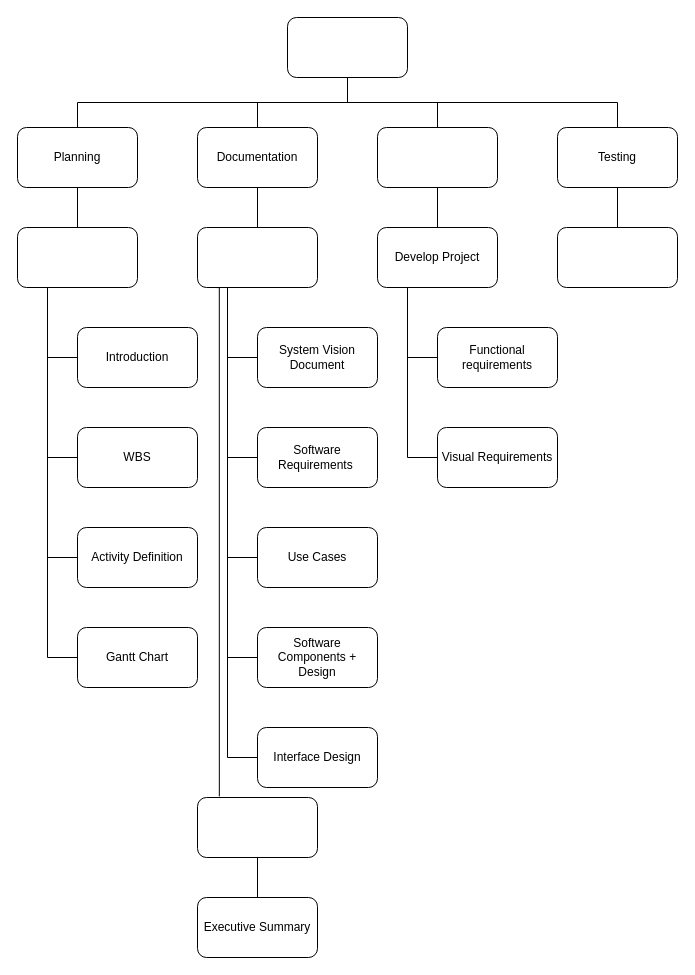
Image size: 695x975. Some labels were removed from this diagram. The centre of each missing label's shape, as x and y in pixels:
"Production" belongs at [437,157].
"Project" belongs at [347,47].
"Project Plan" belongs at [77,257].
"Software Design Document" belongs at [257,257].
"Software Testing Report" belongs at [257,827].
"Tests for testing report" belongs at [617,257].
